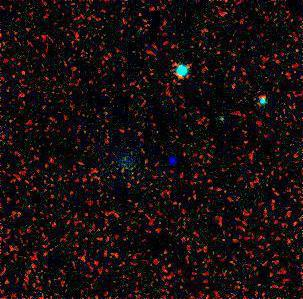star: (156, 146, 186, 176)
